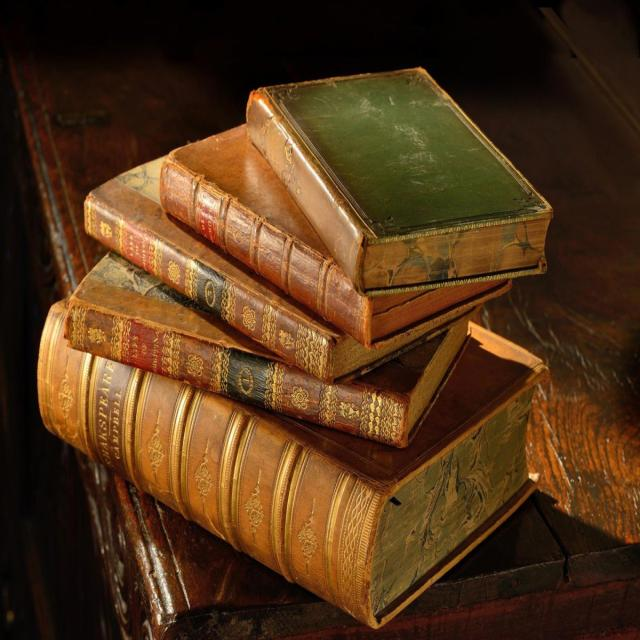book: (244, 53, 563, 302)
